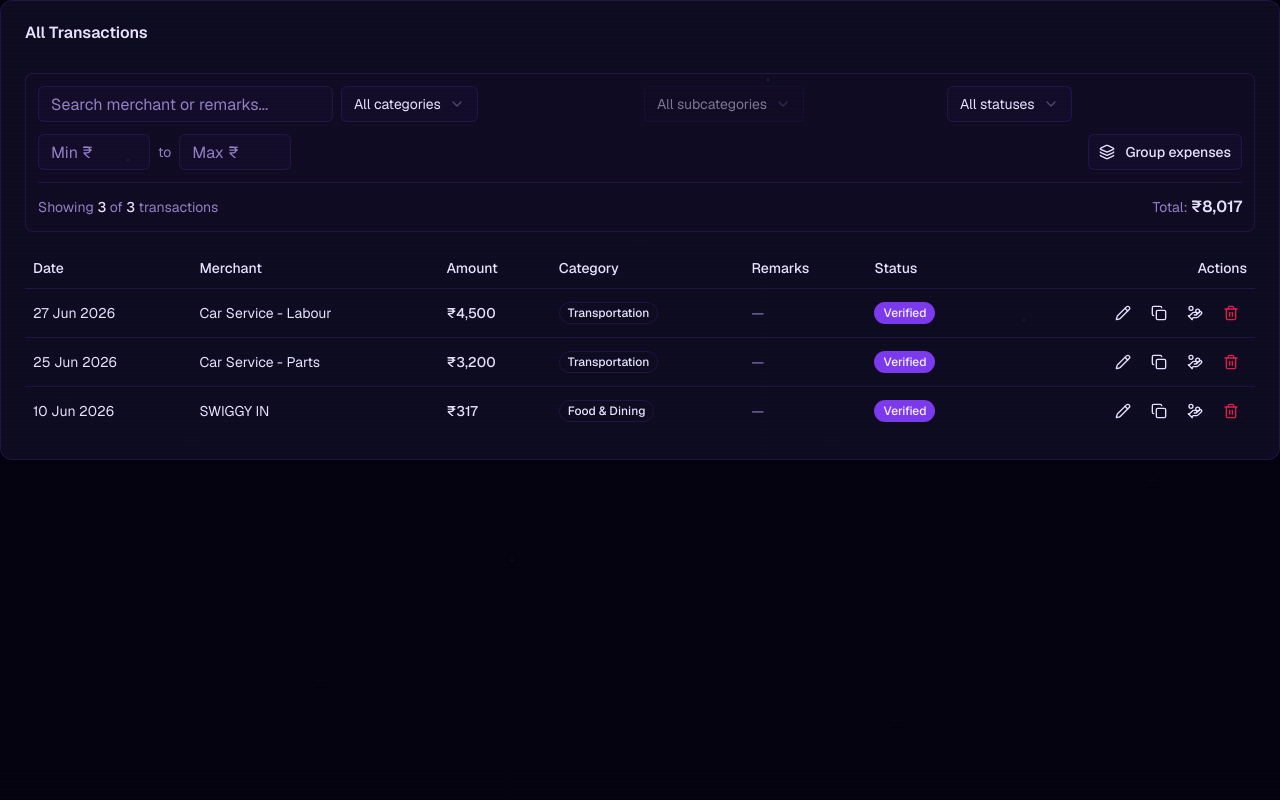
Scenario: TransactionTable selection mode › disables the group button until at least two rows are selected
The width and height of the screenshot is (1280, 800).
Click the button "Group expenses": point(1165, 152) 1088,134 -> 1242,170
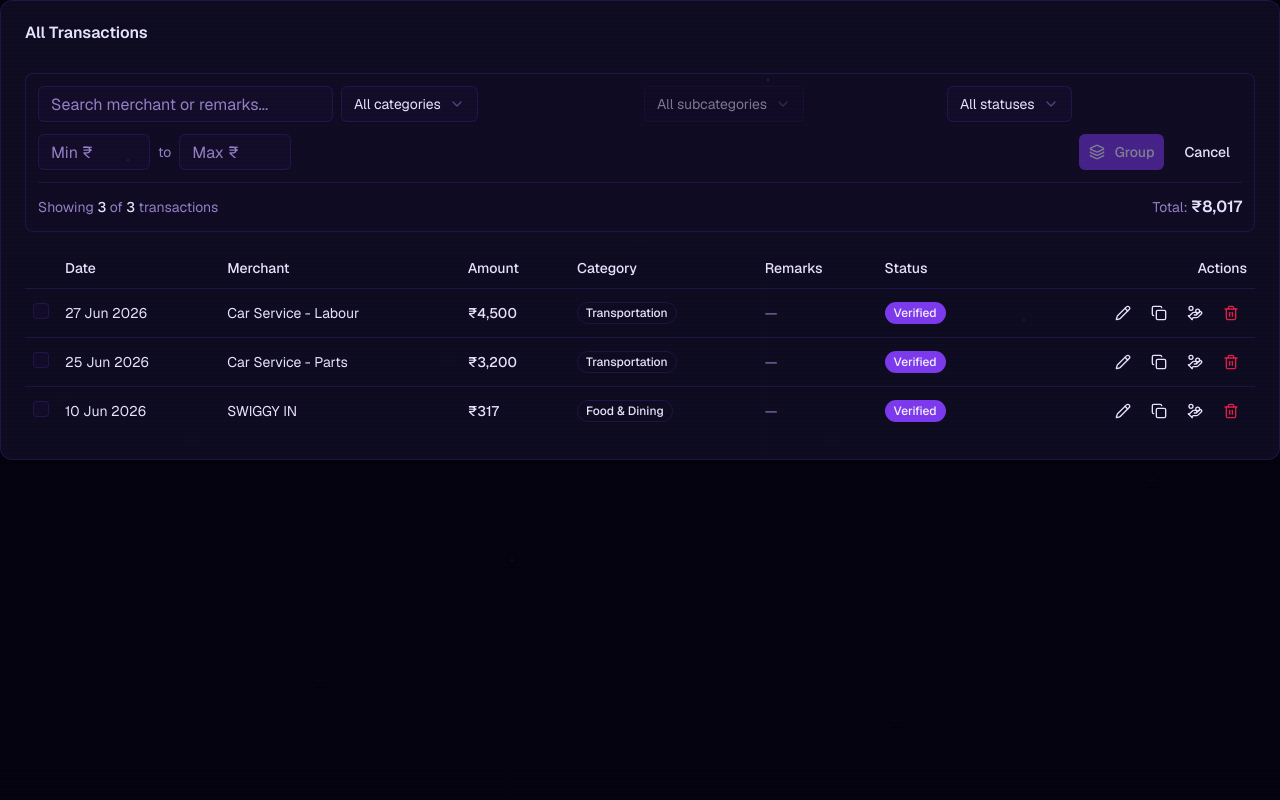
Check: the button "Group" is disabled, box 1079,134 -> 1164,170
Click the checkbox named "Car Service - Labour": point(41, 310) 33,302 -> 49,318
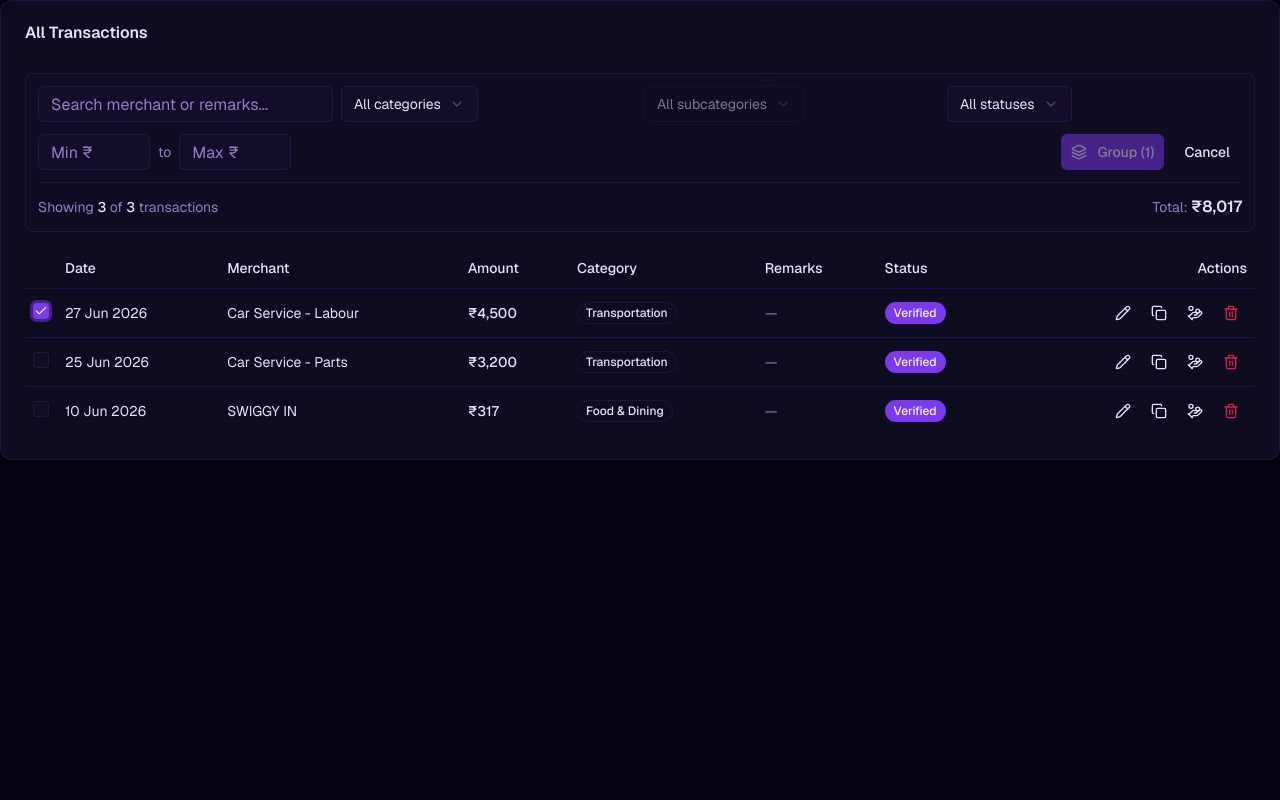
Check: the button "Group (1)" is disabled, box 1062,134 -> 1164,170
Click the checkbox named "Car Service - Parts": point(41, 360) 33,352 -> 49,368
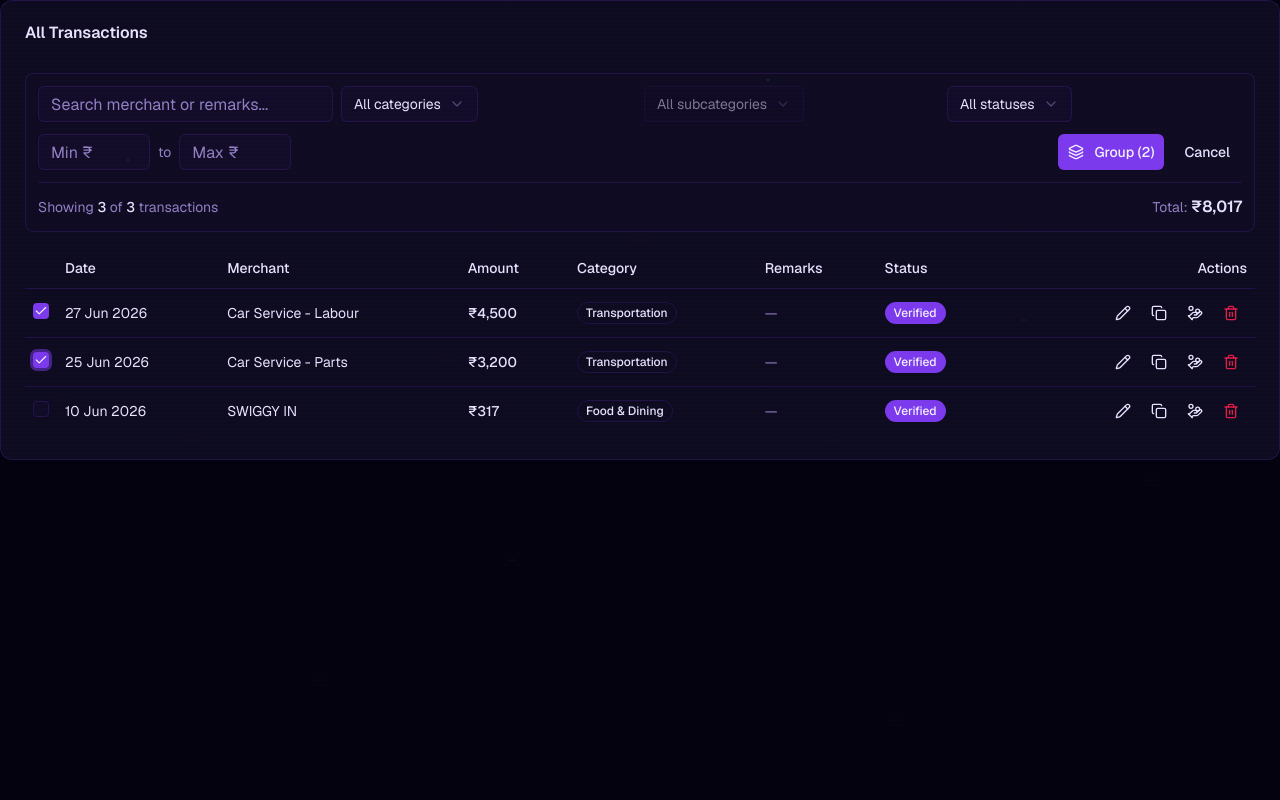
Check: the button "Group (2)" is enabled, box 1058,134 -> 1164,170
